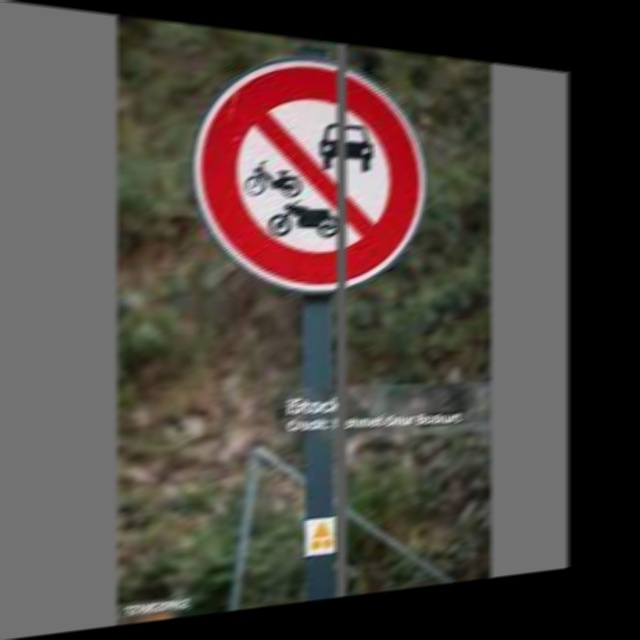All_Motor_Vehicles_Prohibited: (193, 43, 422, 290)
